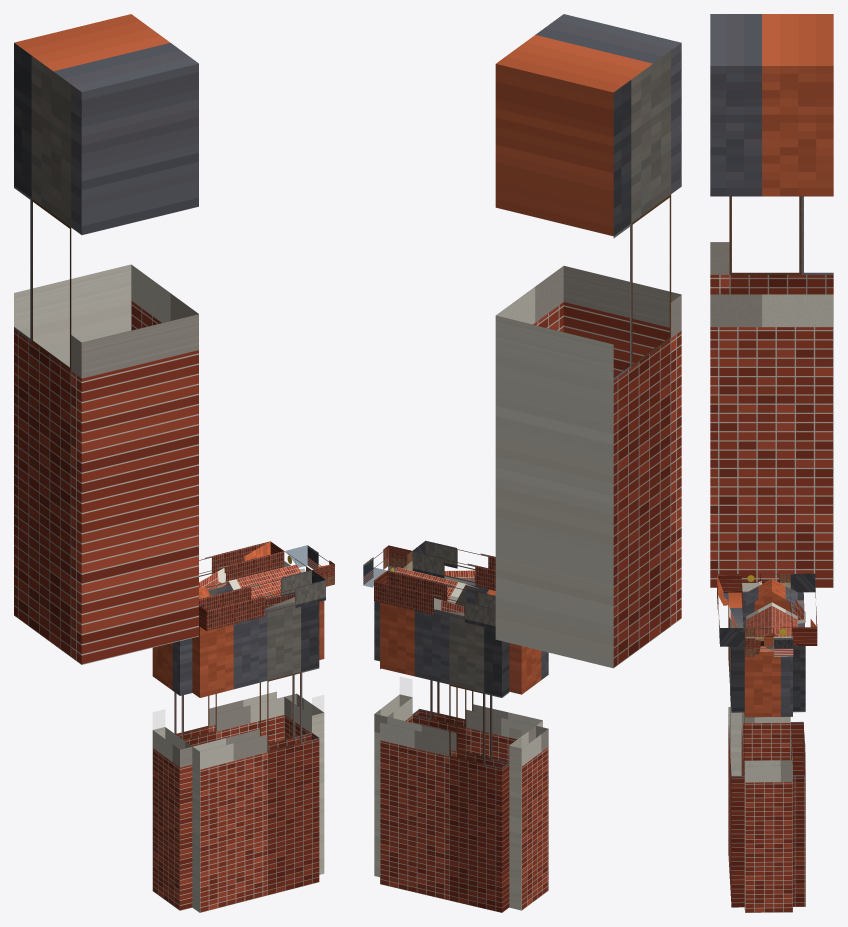
3 views of the same model, side by side, from view 1: azimuth 30°, elevation 25°; view 2: azimuth 150°, elevation 25°; view 3: azimuth 270°, elevation 25° (orthographic). The views are drawn at different scales.
Parts seen in each view (by area): view 1: 1106964416__chimney_0_xb, 1106964416__wall_2_xb, 1106964416__wall_3_xb, 1106964416__wall_0_xb, 1106964416__cornice_2, 1106964416__wall_1_xb, 1106964416__cornice_0, 1106964416_roof_-1_xb, 1106964416__cornice_1; view 2: 1106964416__chimney_0_xb, 1106964416__wall_0_xb, 1106964416__wall_3_xb, 1106964416__wall_2_xb, 1106964416__cornice_0, 1106964416__cornice_2, 1106964416__wall_1_xb, 1106964416__cornice_1, 1106964416_roof_1_xb; view 3: 1106964416__chimney_0_xb, 1106964416__wall_1_xb, 1106964416__wall_2_xb, 1106964416__wall_0_xb, 1106964416__wall_3_xb, 1106964416__cornice_0, 1106964416__cornice_2, 1106964416__cornice_1, 1106964416_roof_-1_xb, 1106964416_roof_1_xb, 1106964416__cornice_3.
Part boxes in pixels (bbox=[...]): 1106964416__chimney_0_xb: bbox=[14, 14, 198, 664]; 1106964416__wall_2_xb: bbox=[192, 597, 319, 912]; 1106964416__wall_3_xb: bbox=[152, 638, 192, 910]; 1106964416__wall_0_xb: bbox=[174, 585, 284, 746]; 1106964416__cornice_2: bbox=[199, 570, 325, 630]; 1106964416__wall_1_xb: bbox=[284, 601, 324, 874]; 1106964416__cornice_0: bbox=[199, 541, 284, 590]; 1106964416_roof_-1_xb: bbox=[199, 564, 300, 598]; 1106964416__cornice_1: bbox=[284, 545, 334, 586]; 1106964416__chimney_0_xb: bbox=[495, 14, 681, 668]; 1106964416__wall_0_xb: bbox=[380, 602, 509, 912]; 1106964416__wall_3_xb: bbox=[509, 643, 548, 910]; 1106964416__wall_2_xb: bbox=[412, 576, 542, 762]; 1106964416__cornice_0: bbox=[374, 570, 495, 629]; 1106964416__cornice_2: bbox=[412, 540, 495, 590]; 1106964416__wall_1_xb: bbox=[374, 601, 412, 877]; 1106964416__cornice_1: bbox=[363, 545, 412, 587]; 1106964416_roof_1_xb: bbox=[395, 567, 495, 603]; 1106964416__chimney_0_xb: bbox=[710, 14, 833, 587]; 1106964416__wall_1_xb: bbox=[744, 646, 792, 912]; 1106964416__wall_2_xb: bbox=[728, 592, 744, 907]; 1106964416__wall_0_xb: bbox=[790, 592, 805, 906]; 1106964416__wall_3_xb: bbox=[742, 591, 790, 772]; 1106964416__cornice_0: bbox=[790, 573, 817, 645]; 1106964416__cornice_2: bbox=[717, 574, 744, 646]; 1106964416__cornice_1: bbox=[744, 627, 793, 656]; 1106964416_roof_-1_xb: bbox=[746, 579, 771, 639]; 1106964416_roof_1_xb: bbox=[772, 579, 797, 646]; 1106964416__cornice_3: bbox=[741, 573, 790, 592].
Bounding box in the file's own units: 0.3483 × 1.05 × 0.15.
1 material, 1 textured.
